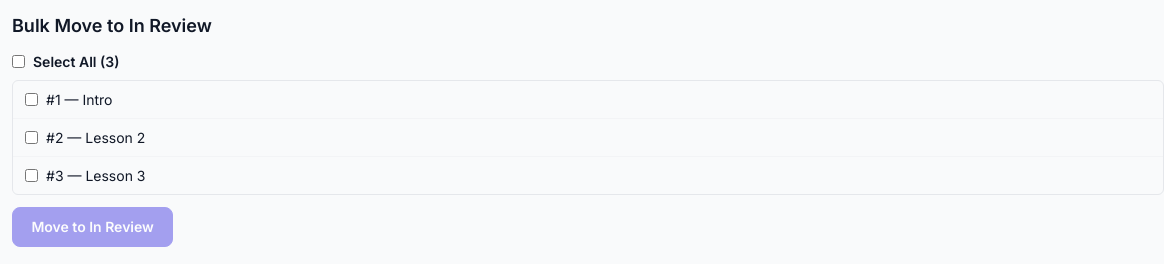
Test case: BulkActionSection › disables the action button until at least one item is selected
Expected: the button "Move to In Review" is disabled, [12,207,173,247]
Step 1. Click the text "#2 — Lesson 2" → [96, 138], box [46,127,145,148]
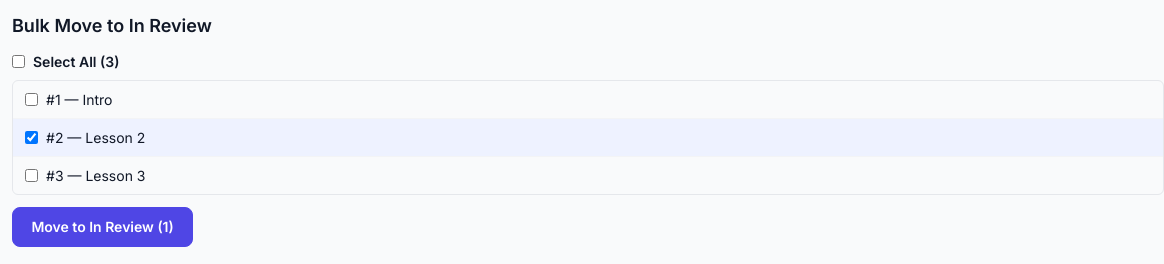
Now the button "Move to In Review (1)" is enabled, box [12,207,193,247]
